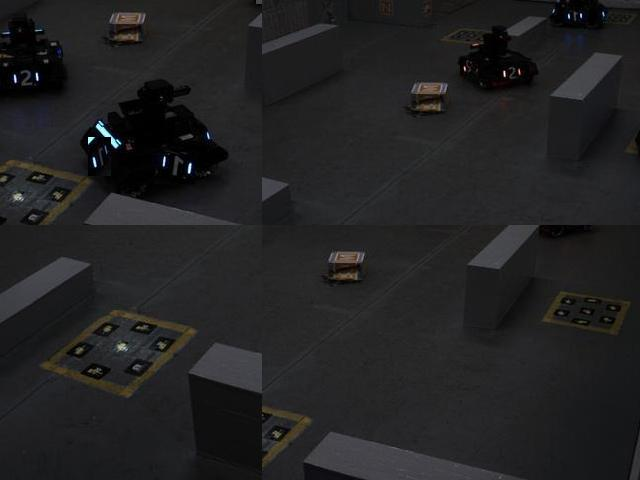armor: (156, 150, 197, 185), (89, 138, 113, 178), (11, 64, 46, 90), (498, 63, 525, 84), (461, 59, 480, 78), (564, 9, 587, 24), (563, 225, 585, 230)
